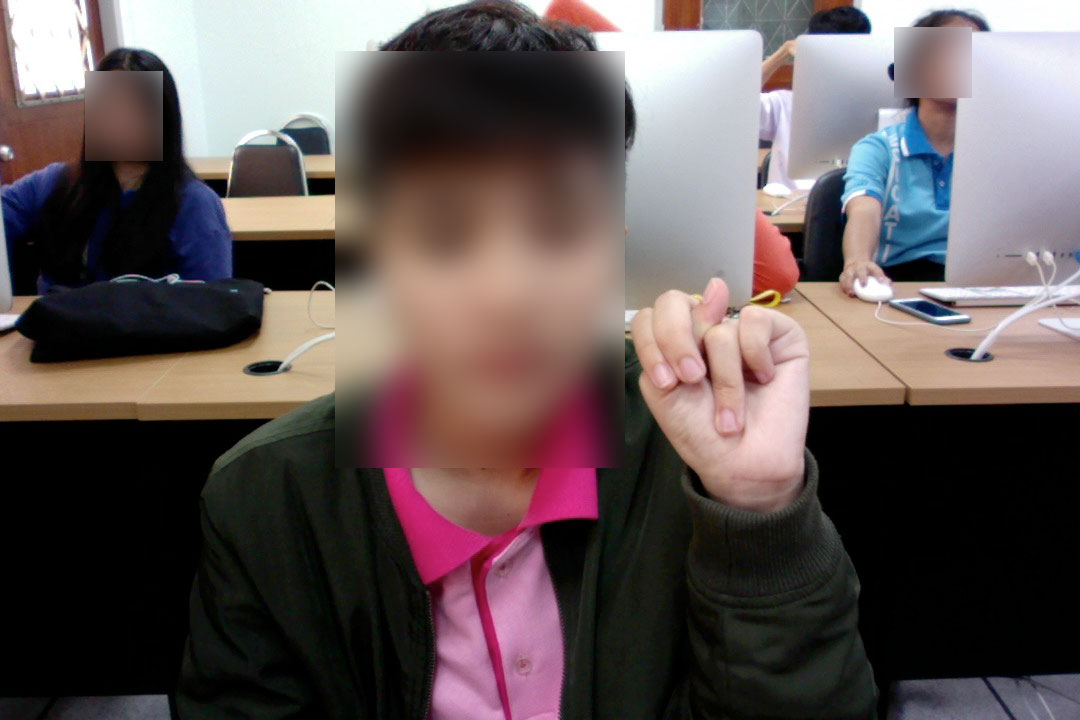nor: (627, 271, 838, 534)
